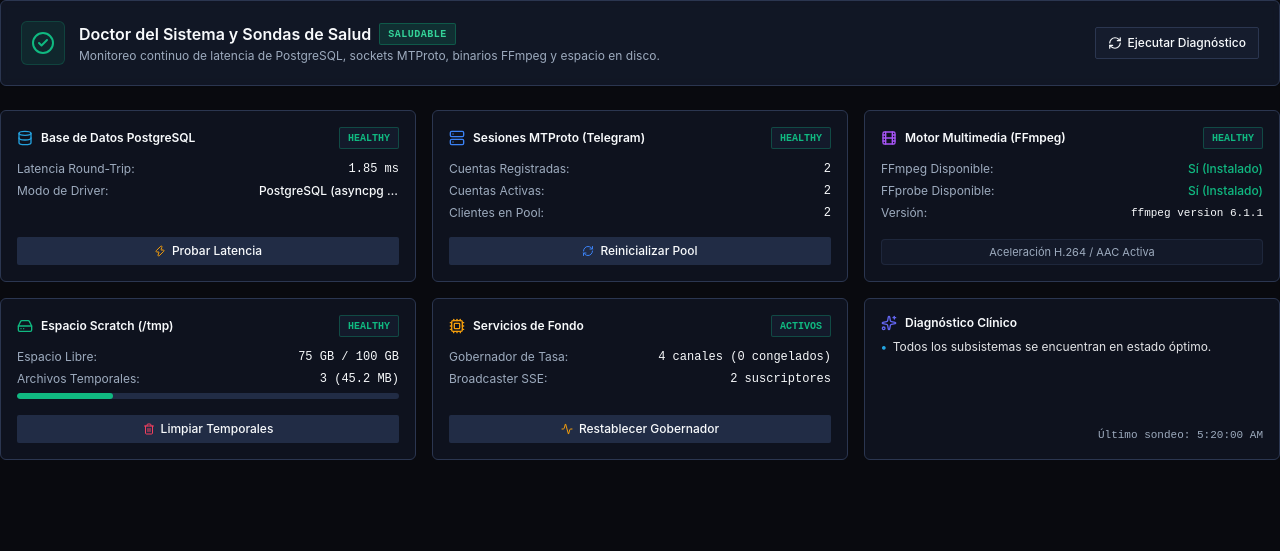
Scenario: SystemDoctorCard Component › executes remediation action and displays confirmation message
Click the button "Limpiar Temporales".
click(208, 429)  # box [17,415,399,443]
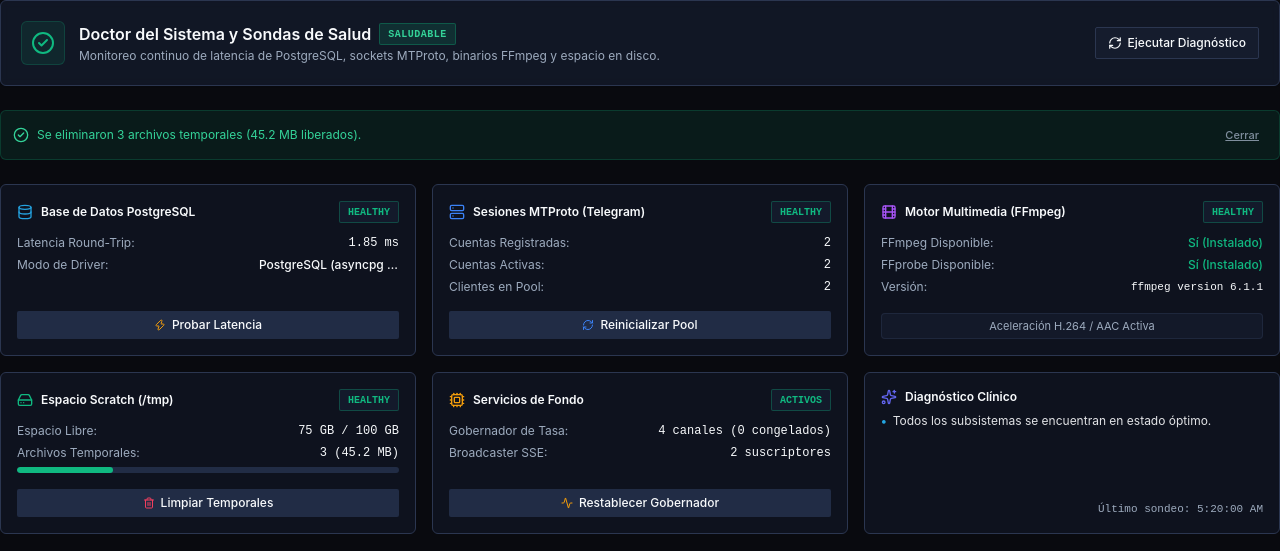
Expected: the text "Se eliminaron 3 archivos temporales (45.2 MB liberados)." is shown, [37,127,361,143]
